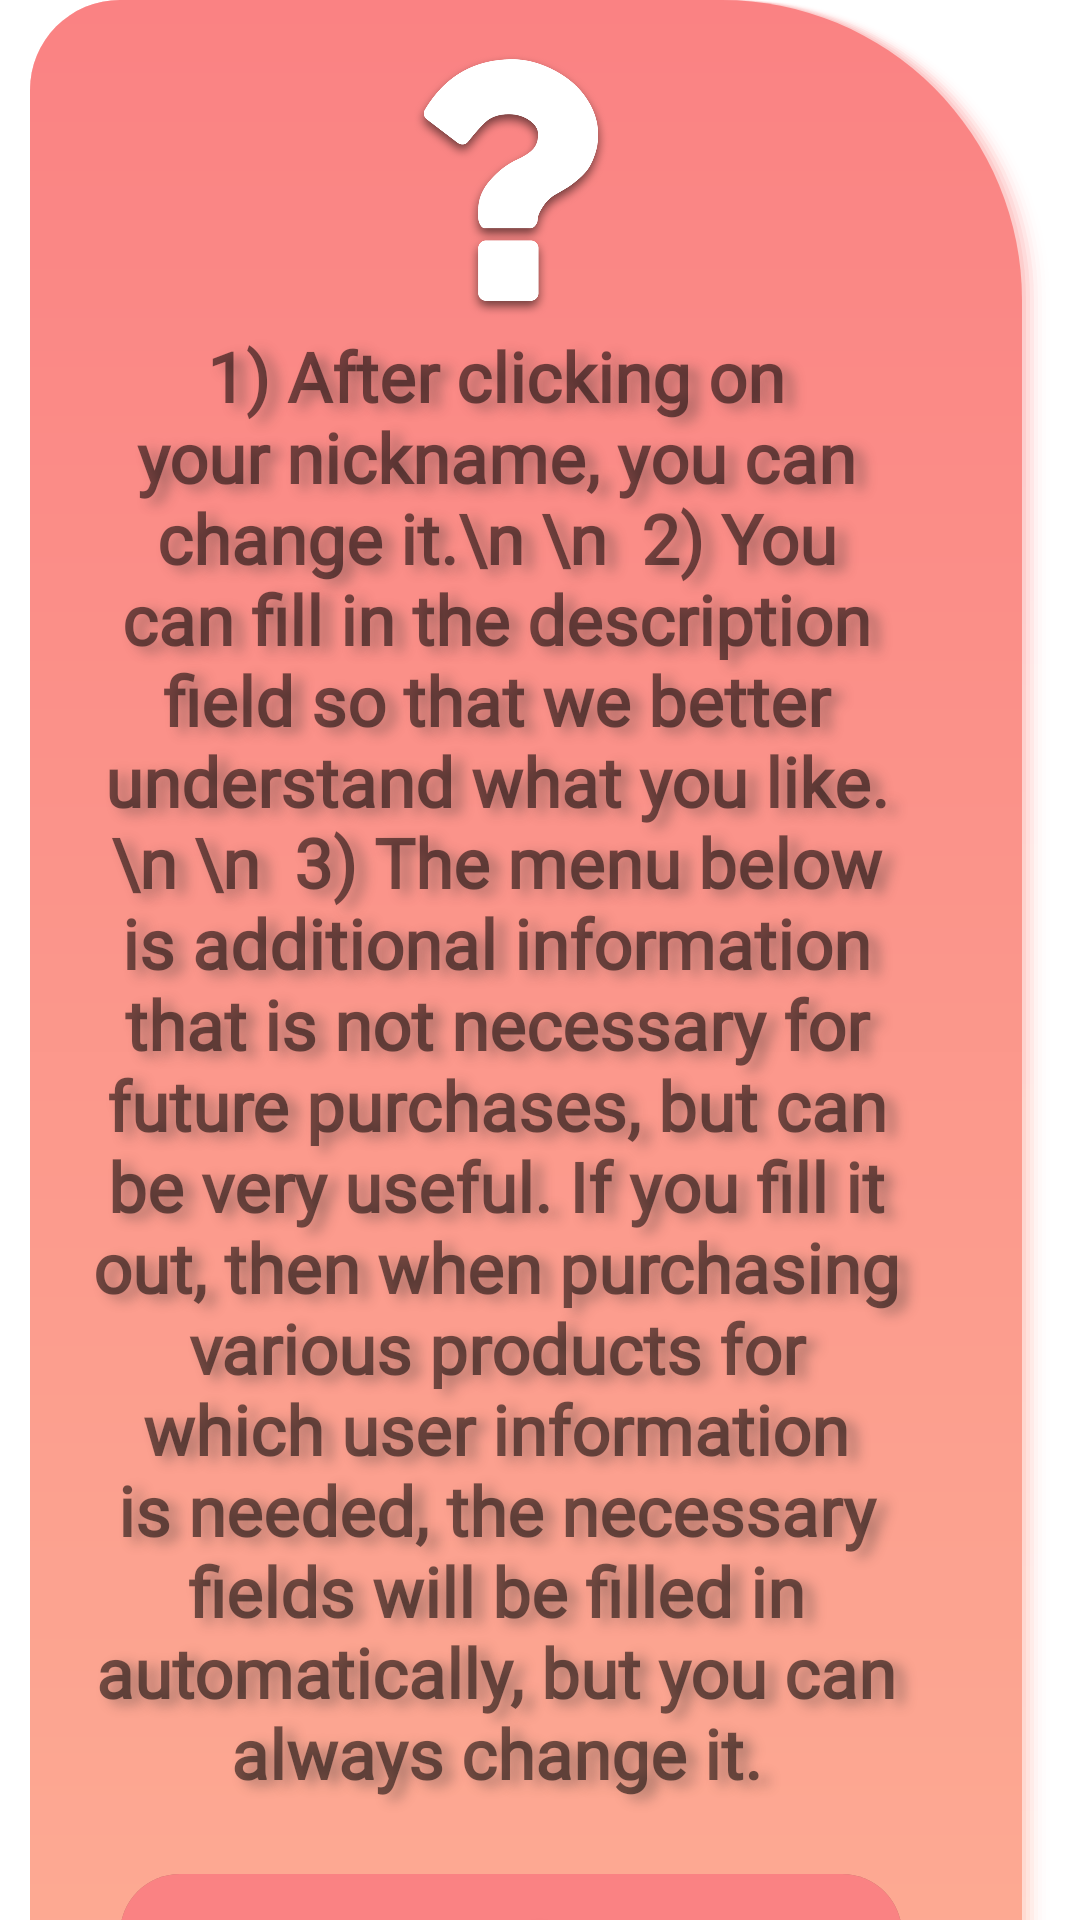

Named icons in this screenshot (1080*1920) and their bounding boxes, (x1, y1, x2, y2):
question: (420, 59, 603, 311)
